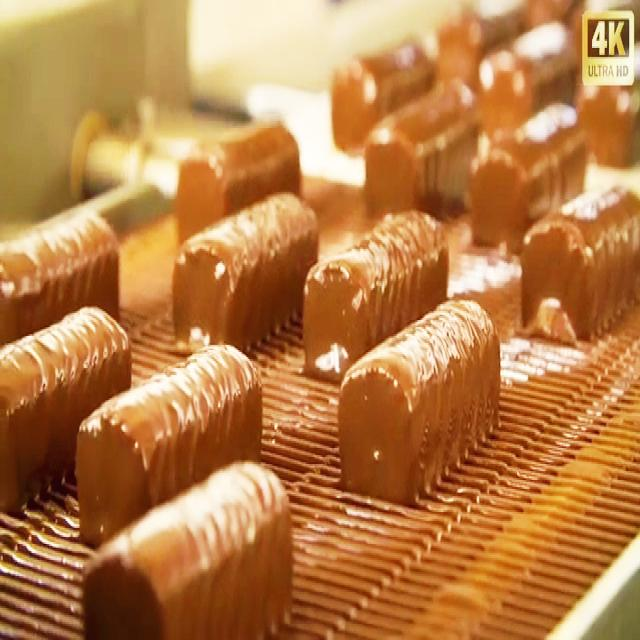Choco: (74, 340, 263, 542), (80, 457, 294, 635), (336, 292, 502, 503), (0, 311, 135, 511), (301, 204, 450, 380), (170, 186, 319, 348), (176, 116, 307, 260), (519, 182, 631, 342), (357, 77, 479, 217), (469, 104, 587, 247), (1, 206, 124, 336), (323, 33, 439, 158)
